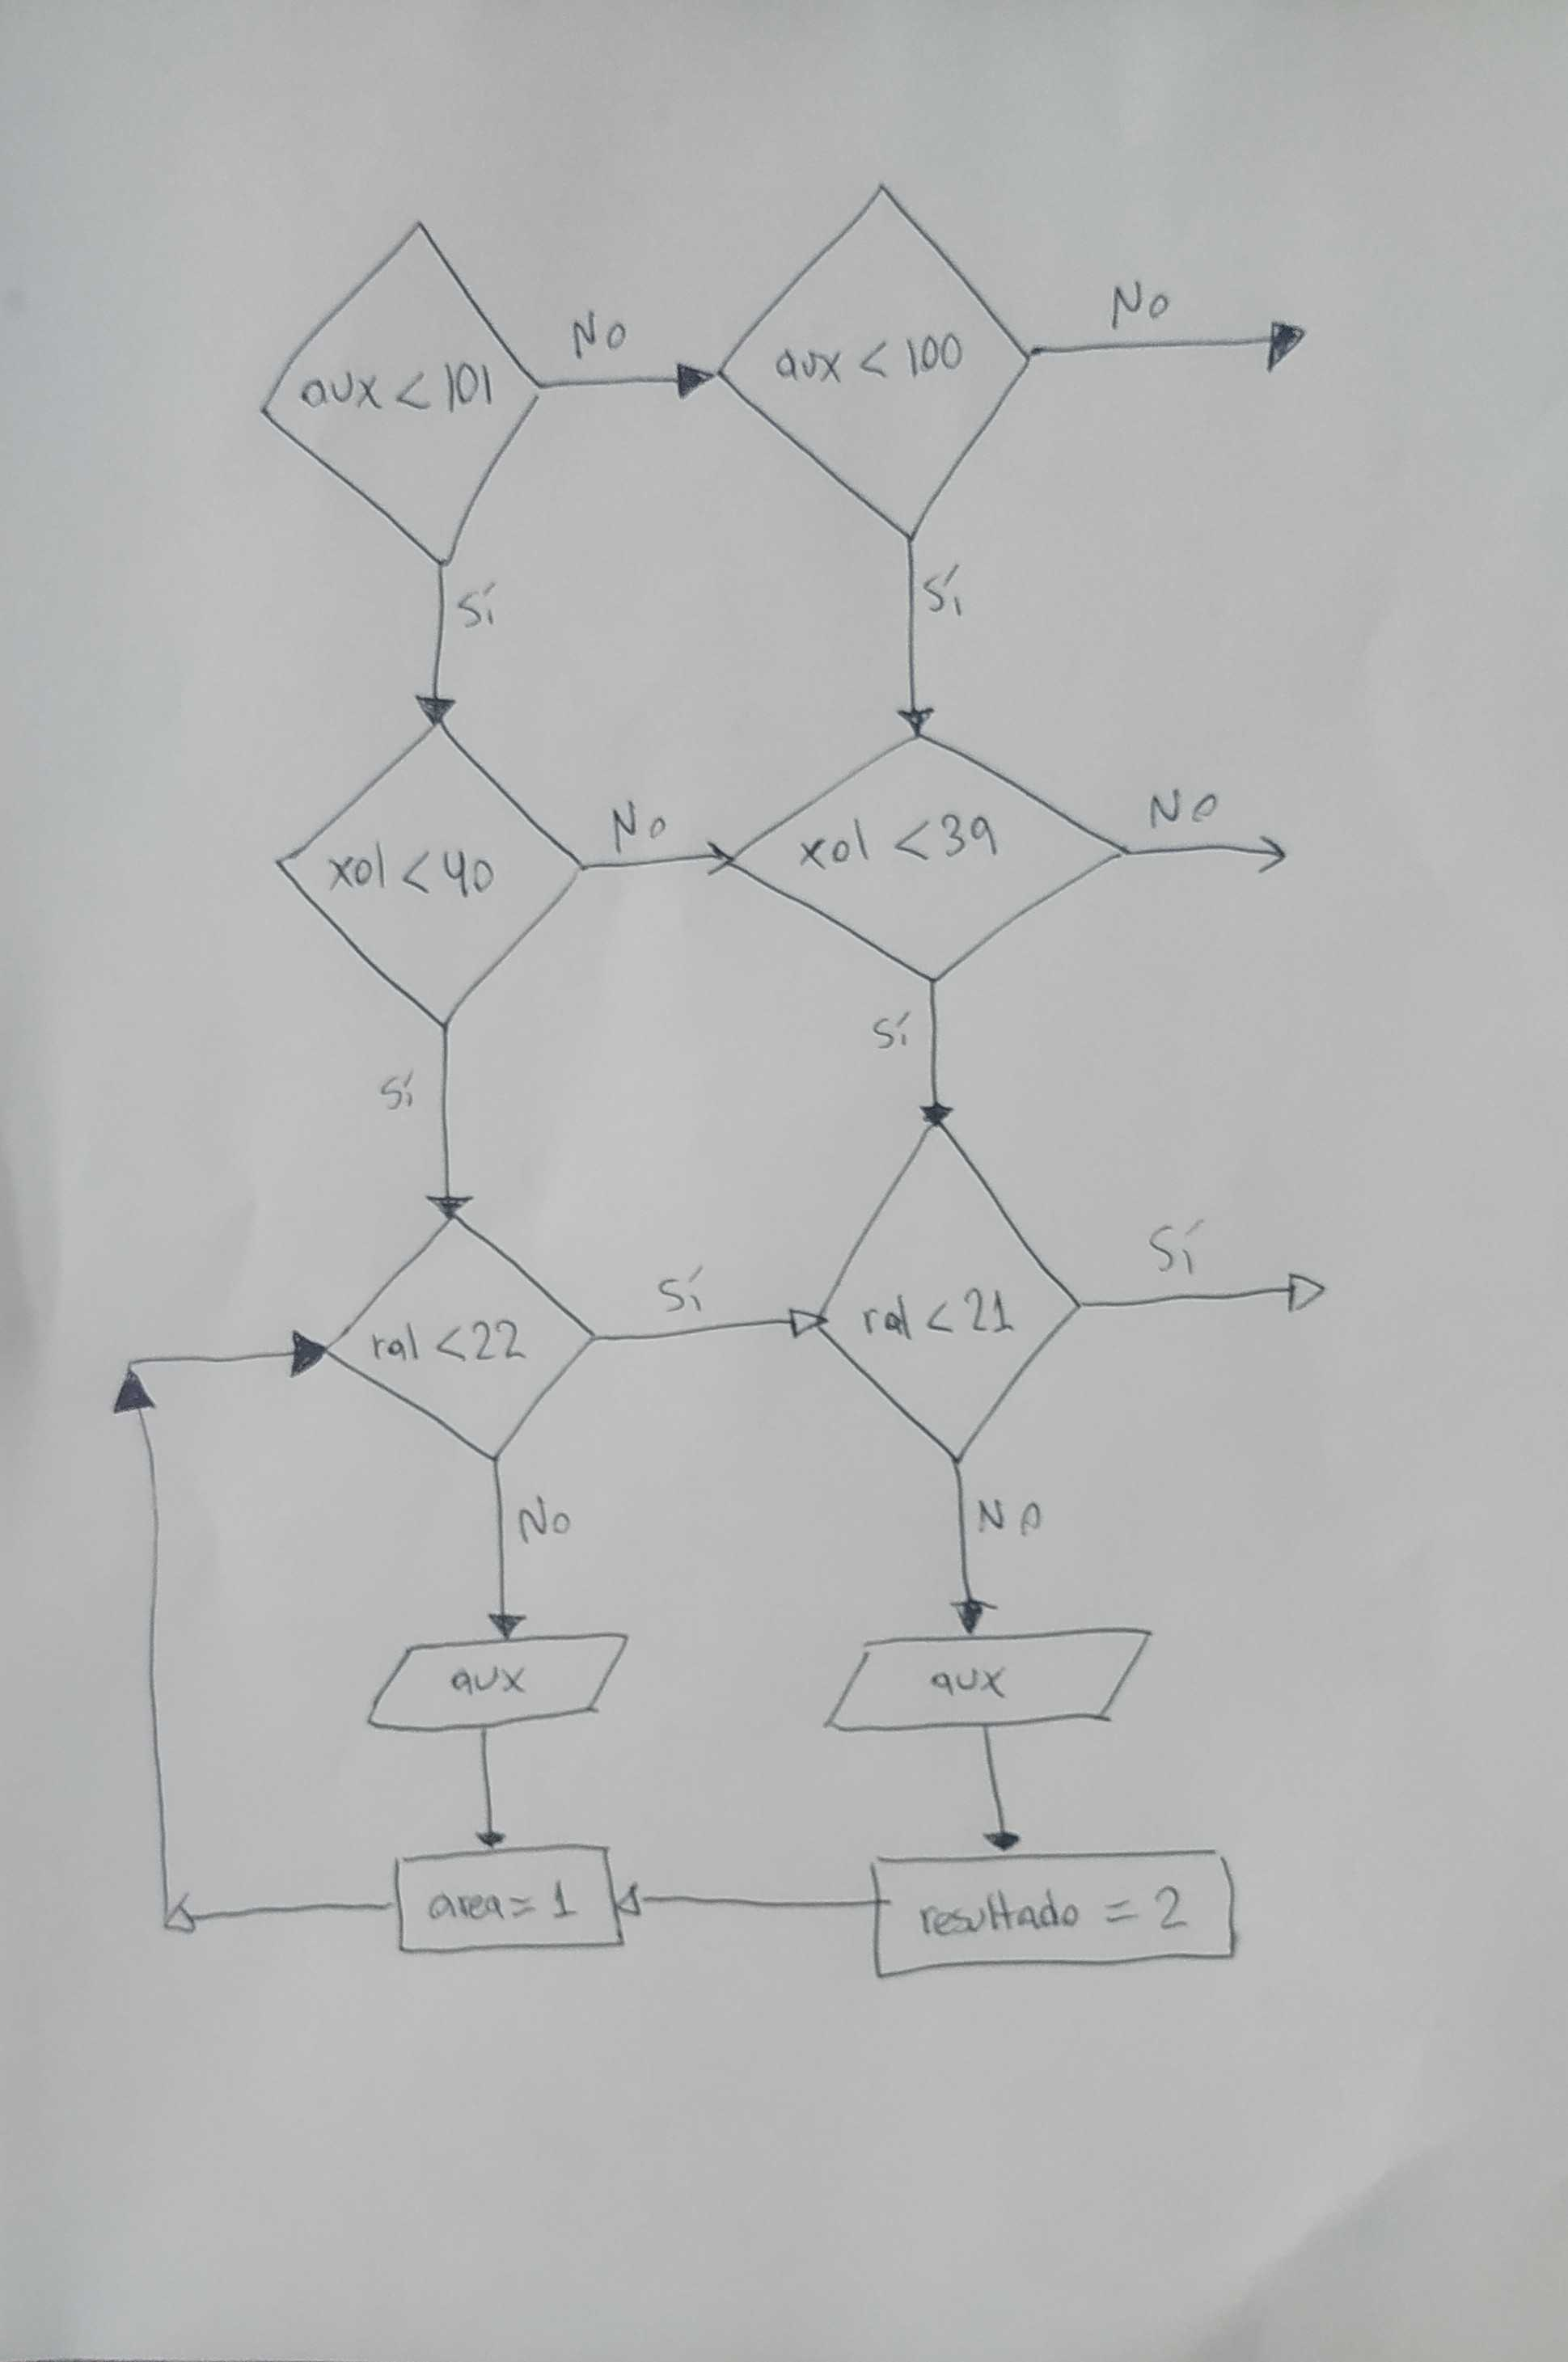arrow_line_down: (416, 1024, 485, 1228), (887, 532, 948, 740), (471, 1452, 530, 1643), (409, 555, 472, 730), (943, 1449, 999, 1639), (905, 975, 964, 1130), (971, 1723, 1032, 1858), (462, 1720, 516, 1856)
arrow_line_left: (612, 1872, 880, 1928), (159, 1890, 399, 1940)
arrow_line_right: (1025, 311, 1314, 388), (1074, 1261, 1332, 1323), (588, 1296, 824, 1363), (119, 1321, 334, 1387), (537, 346, 719, 409), (1123, 819, 1295, 885), (579, 833, 731, 887)
arrow_line_up: (100, 1365, 185, 1930)
decision: (709, 171, 1043, 544), (247, 208, 555, 574), (723, 730, 1132, 989), (261, 716, 591, 1036), (815, 1118, 1085, 1466), (320, 1212, 597, 1461)
process: (859, 1839, 1255, 1991), (383, 1834, 635, 1967)
scan: (815, 1622, 1160, 1741), (359, 1625, 633, 1737)
